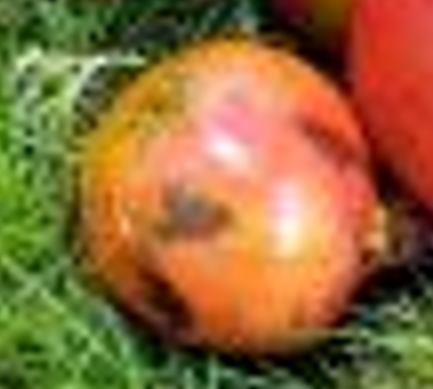pomegranate_B: (70, 35, 420, 354)
